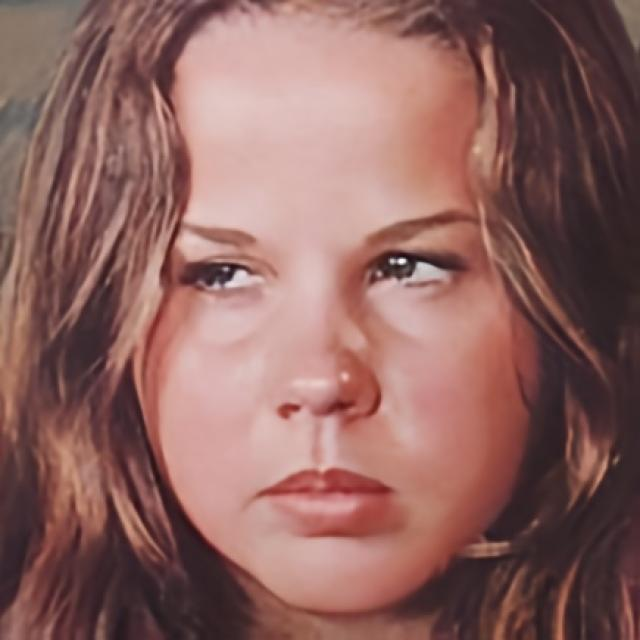anger: (134, 35, 534, 609)
